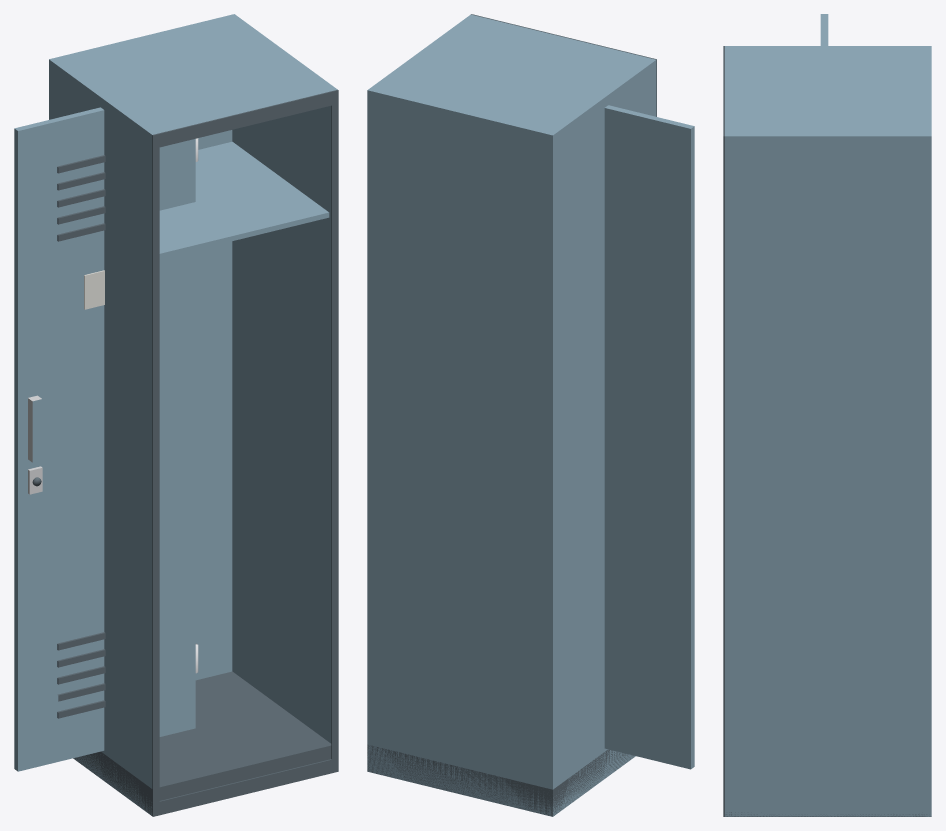
The model's file is locker.glb.
The picture shows the model from 3 angles, left to right: view 1: azimuth 30°, elevation 25°; view 2: azimuth 150°, elevation 25°; view 3: azimuth 270°, elevation 25°; orthographic projection.
Parts seen in each view (by area): view 1: Body, Door; view 2: Body, Door; view 3: Body.
Boxes of the visible parts, x1,y1,x2,y2 form: Body: [49, 14, 338, 816]; Door: [14, 107, 198, 771]; Body: [367, 14, 656, 816]; Door: [604, 105, 694, 769]; Body: [723, 46, 931, 816].
Bounding box in the file's own units: 0.835 × 2 × 0.554.
